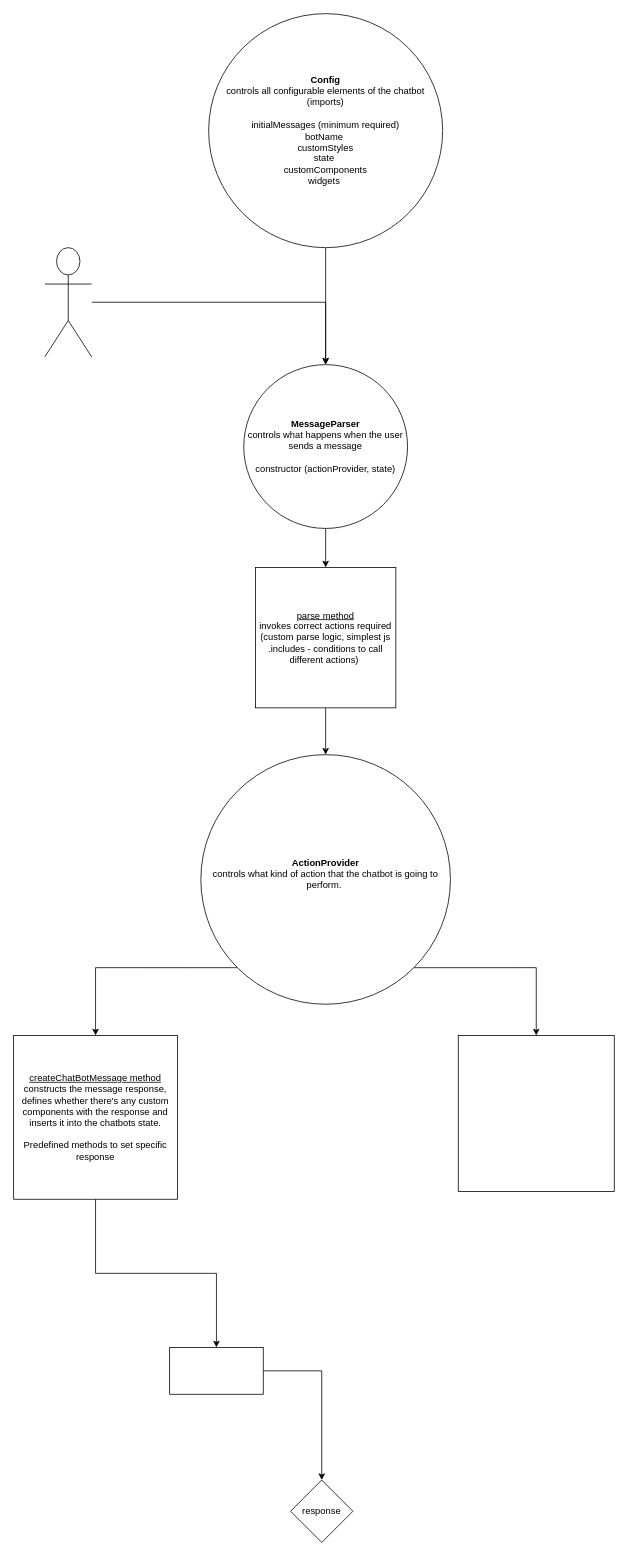
This 628x1556 diagram has some shape labels left out. Each missing label, with the centre of its shape:
createClientMessage method simulates a user message: the point at 535,1113
setState(): the point at 216,1370
User Input: the point at 68,302
